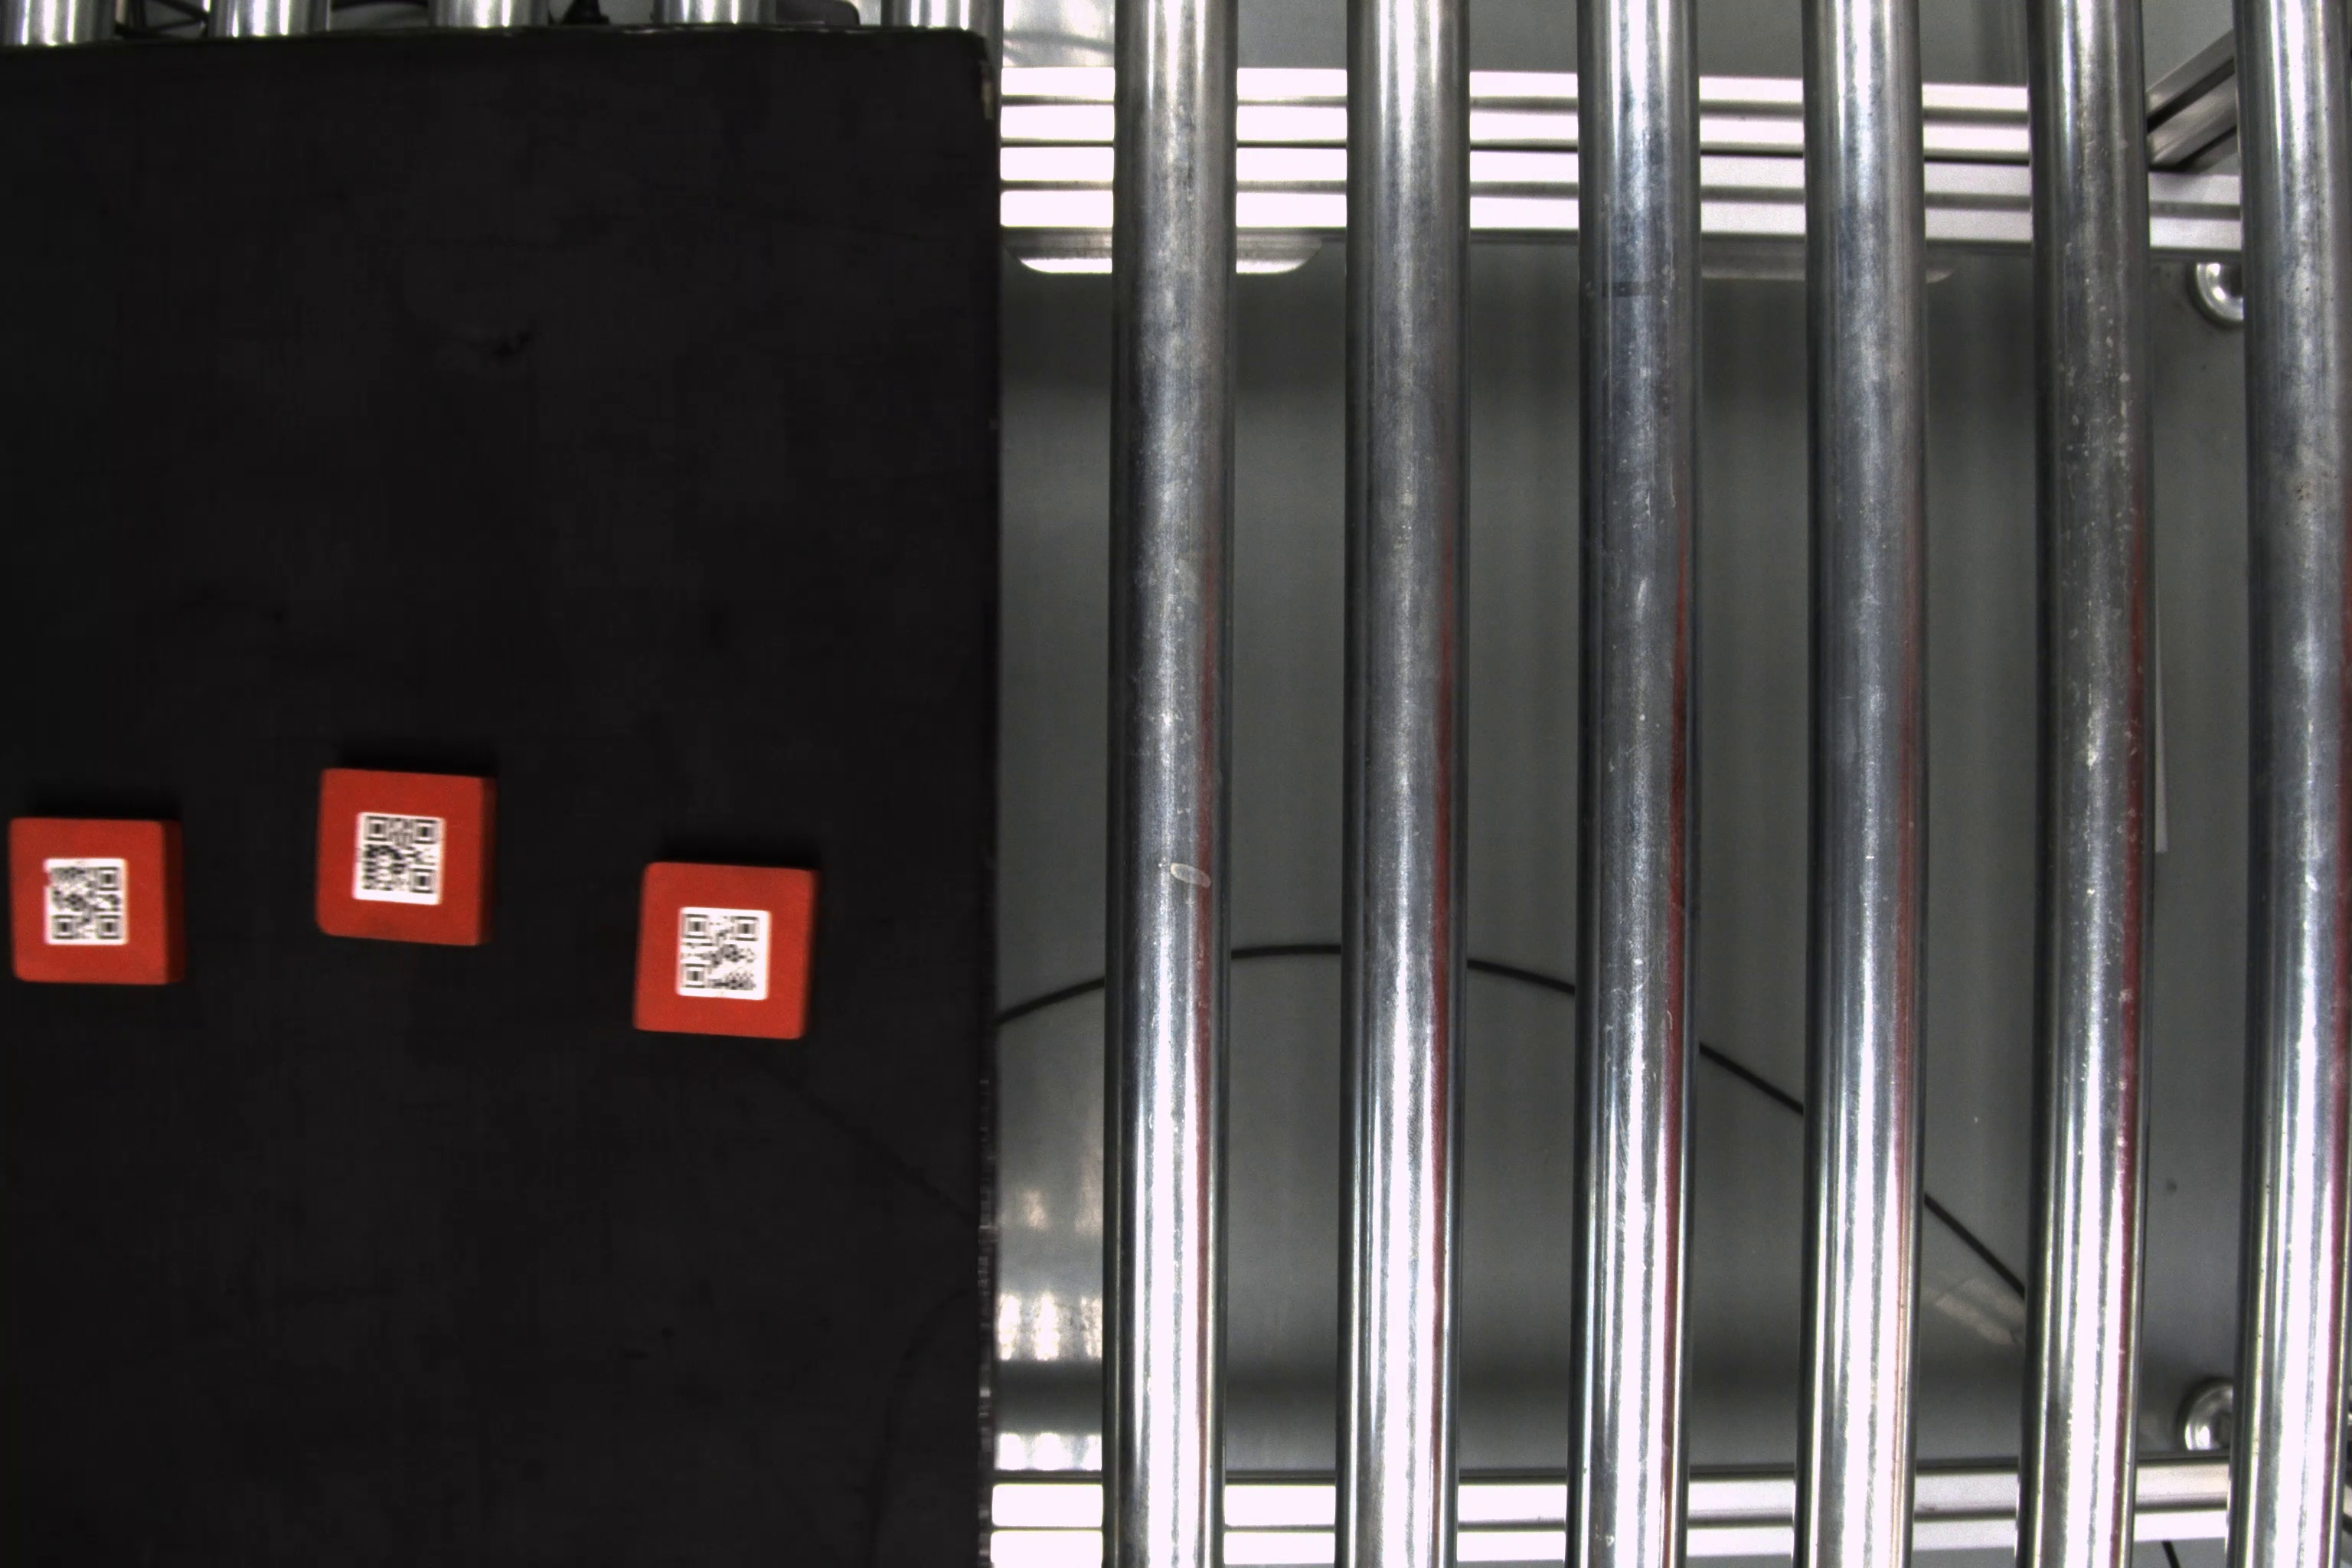wood: (311, 759, 497, 955), (625, 857, 821, 1041), (7, 814, 196, 992)
